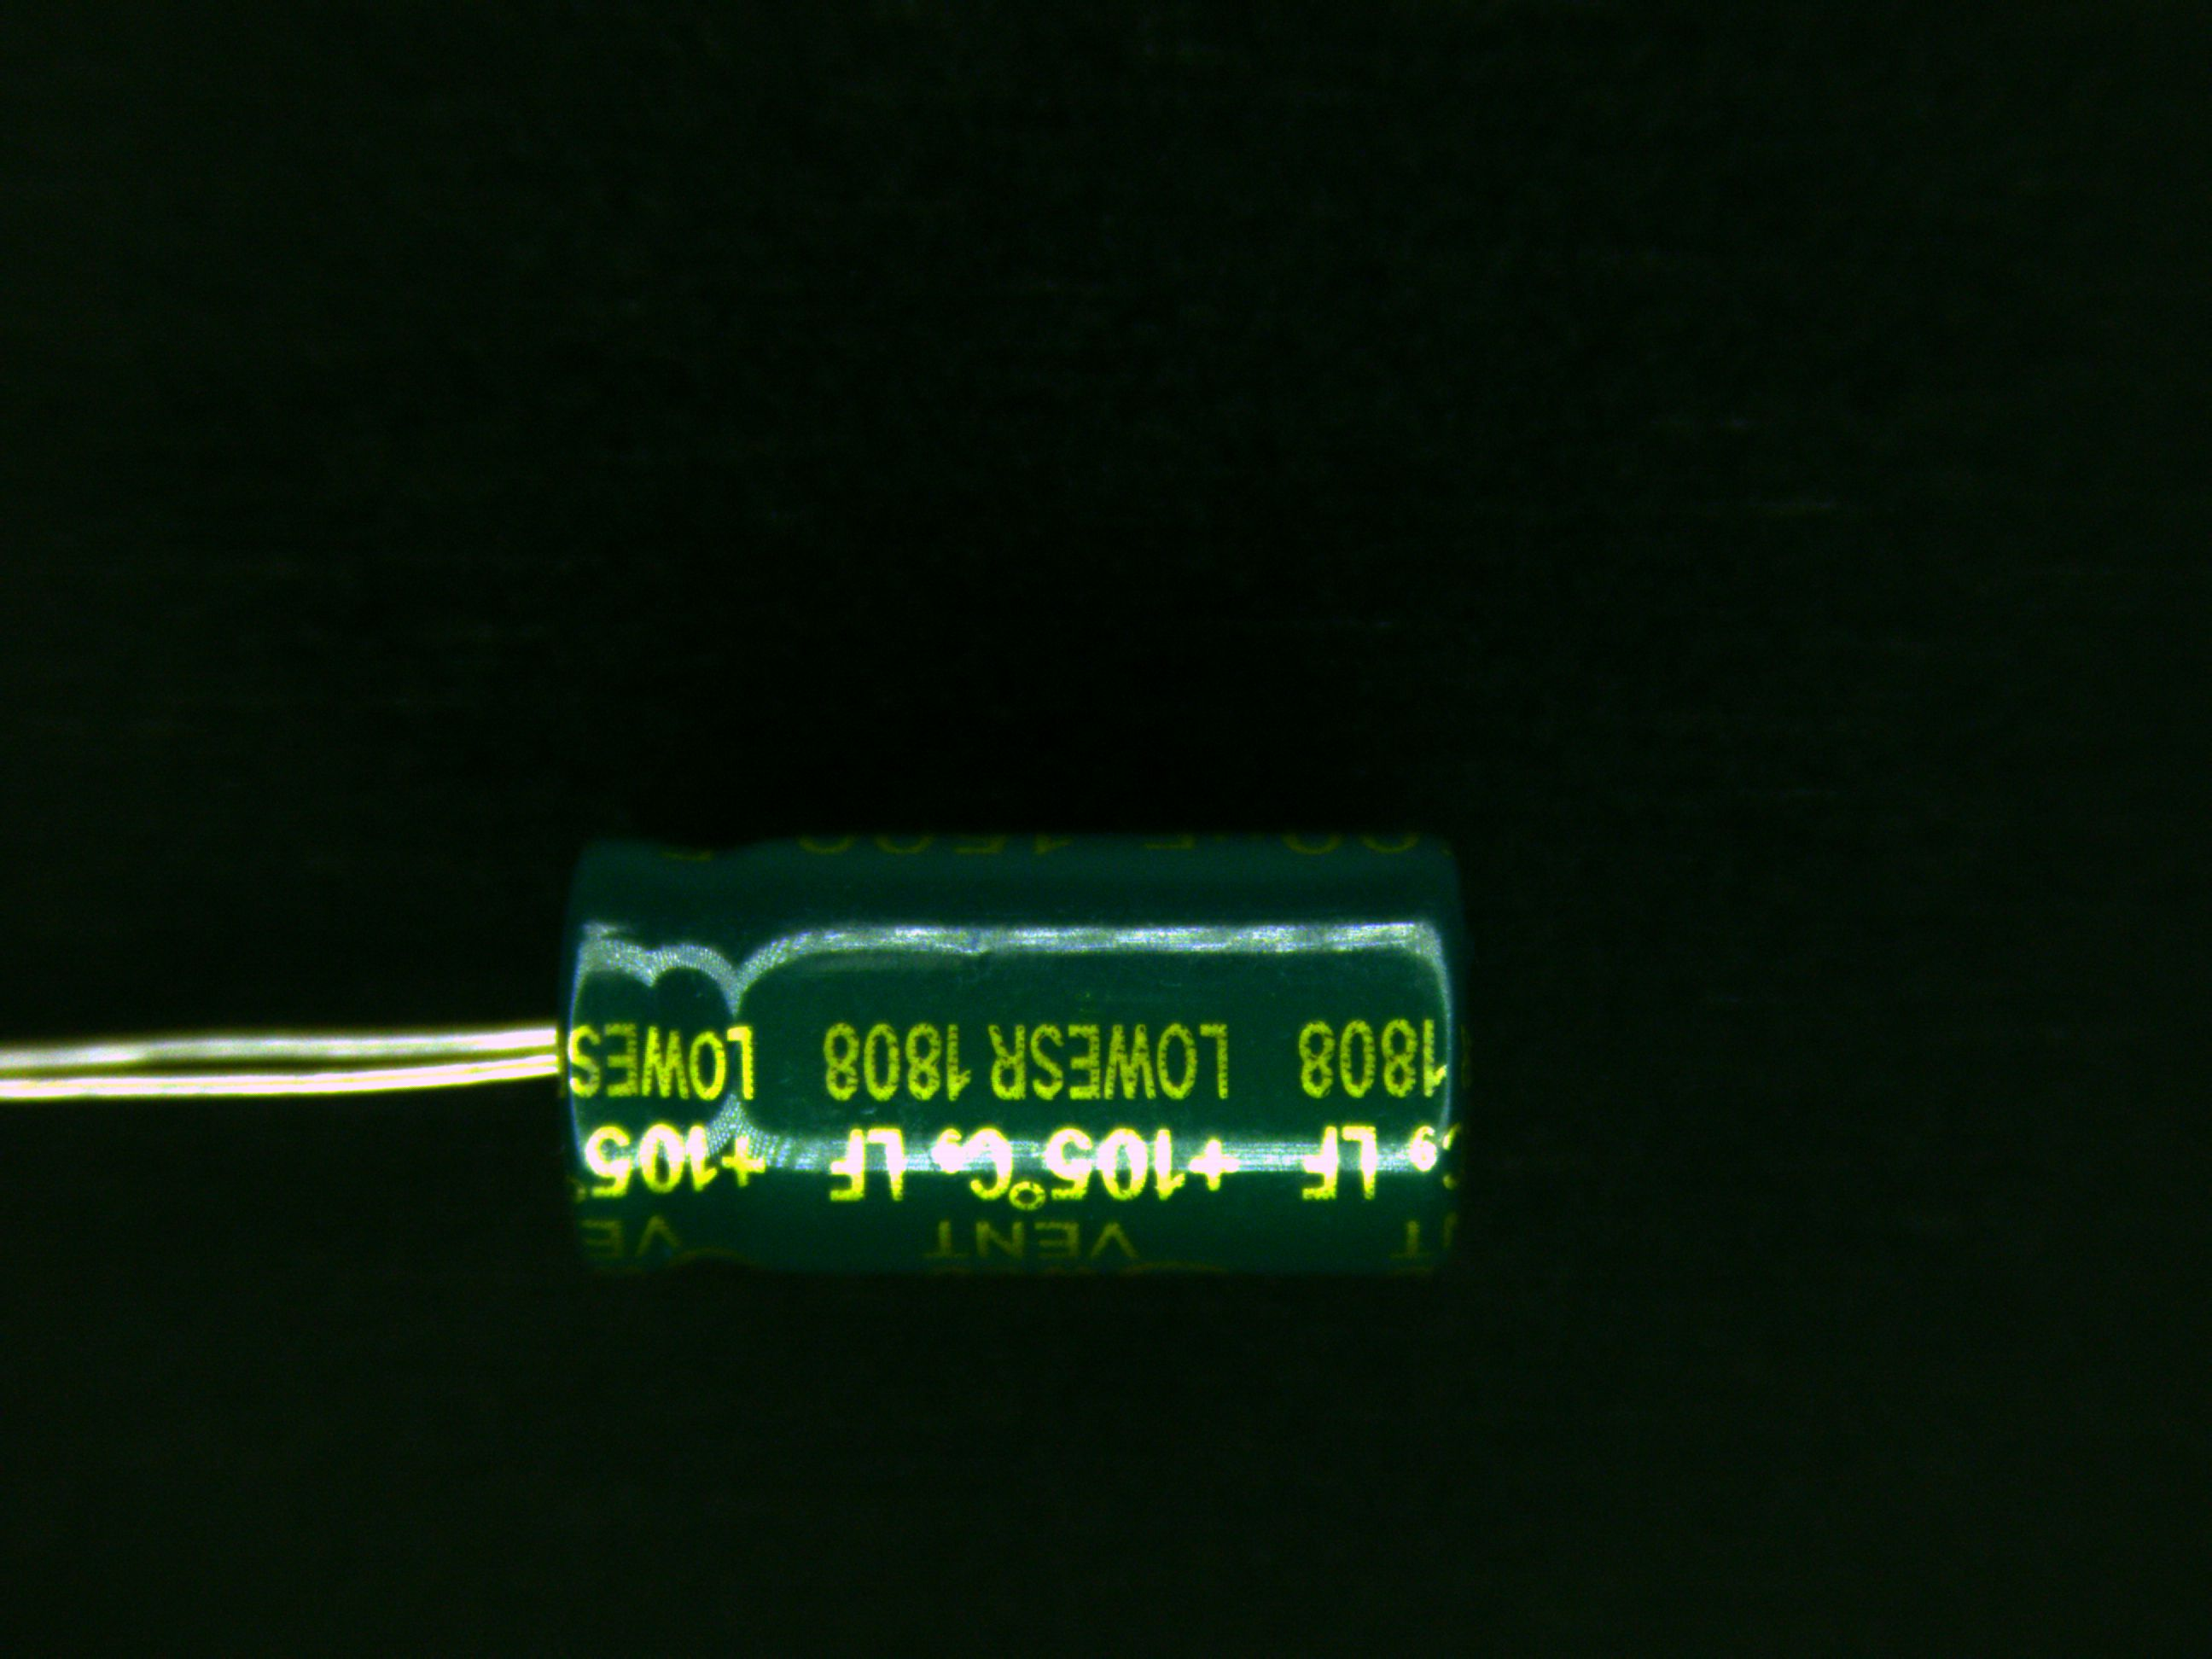c1: (460, 824, 1477, 1260)
